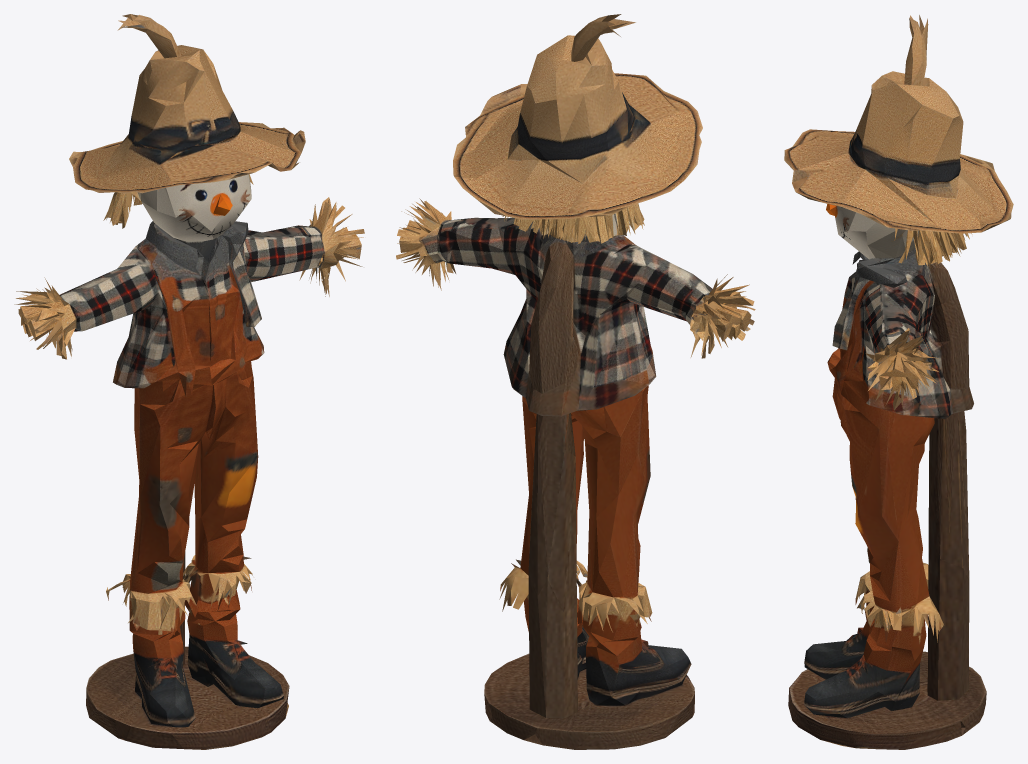
Rendered from scarecrow.glb.
3 renders of one model, left to right at view 1: azimuth 30°, elevation 25°; view 2: azimuth 150°, elevation 25°; view 3: azimuth 270°, elevation 25°, orthographic. The views are drawn at different scales.
Size of the model in its own units: 0.9395 by 1.88 by 0.5812.
1 material, 1 textured.
